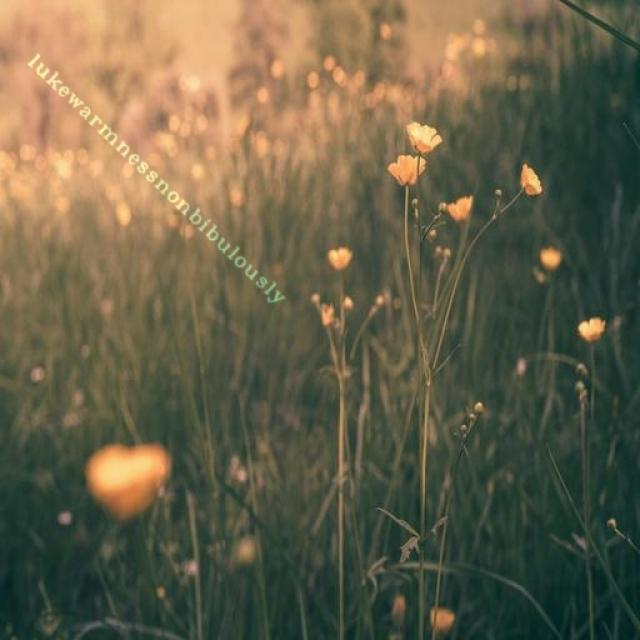watermark: (21, 46, 292, 309)
